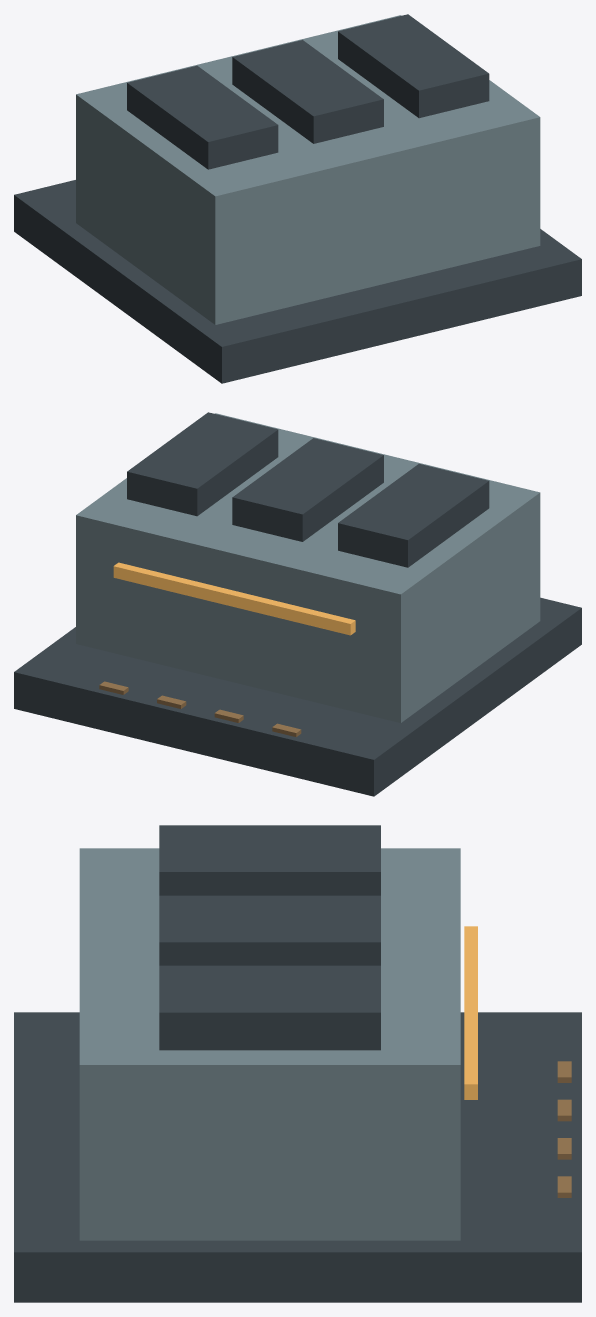
File: Narrative-judgement_engine.glb
The picture shows the model from 3 angles, top to bottom: view 1: azimuth 30°, elevation 25°; view 2: azimuth 150°, elevation 25°; view 3: azimuth 270°, elevation 25°; orthographic projection. The views are drawn at different scales.
Visible parts, largest first — view 1: Desk, Base, Outlet, Outlet.002, Outlet.001; view 2: Desk, Base, Outlet.002, Outlet, Outlet.001, HandoverLine, Detail_Assembly; view 3: Desk, Base, Outlet.002, Outlet, Outlet.001, HandoverLine, Detail_Assembly.
Boxes of the visible parts, <box> form: Desk: <box>76,15,540,324</box>; Base: <box>14,180,581,383</box>; Outlet: <box>127,65,278,169</box>; Outlet.002: <box>338,14,489,118</box>; Outlet.001: <box>232,40,383,143</box>; Desk: <box>76,413,540,722</box>; Base: <box>14,597,581,796</box>; Outlet.002: <box>127,412,278,516</box>; Outlet: <box>338,464,489,567</box>; Outlet.001: <box>232,438,383,541</box>; HandoverLine: <box>113,562,355,635</box>; Detail_Assembly: <box>99,681,301,737</box>; Desk: <box>79,848,460,1240</box>; Base: <box>14,1012,581,1302</box>; Outlet.002: <box>159,965,380,1050</box>; Outlet: <box>159,825,380,895</box>; Outlet.001: <box>159,895,380,965</box>; HandoverLine: <box>464,926,477,1099</box>; Detail_Assembly: <box>557,1061,571,1197</box>.
Size of the model in its own units: 1.64 by 0.84 by 1.64.
